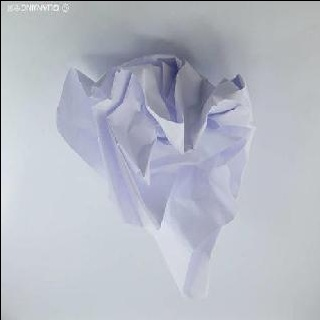8/可回收垃圾/纸: (53, 53, 255, 300)
